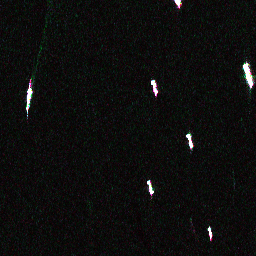ship: (240, 60, 255, 88), (22, 85, 34, 111), (148, 78, 159, 97), (184, 131, 195, 150), (145, 177, 155, 196), (205, 225, 214, 239), (173, 1, 184, 9)
